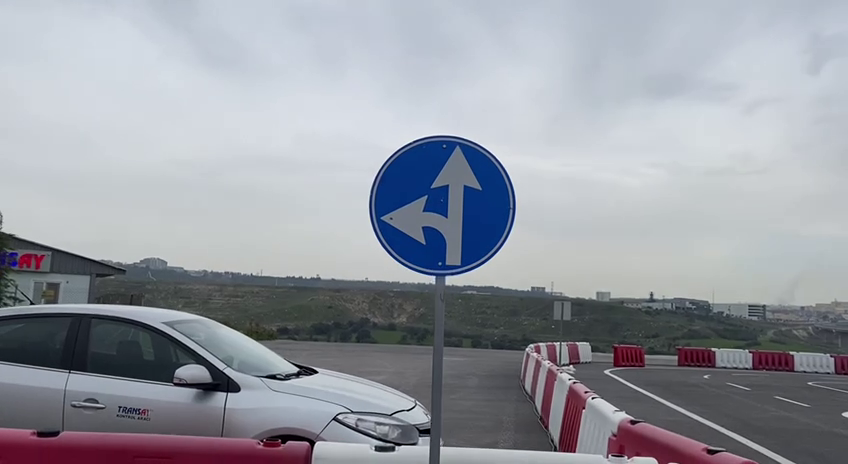forwardAndLeft: (365, 133, 517, 278)
